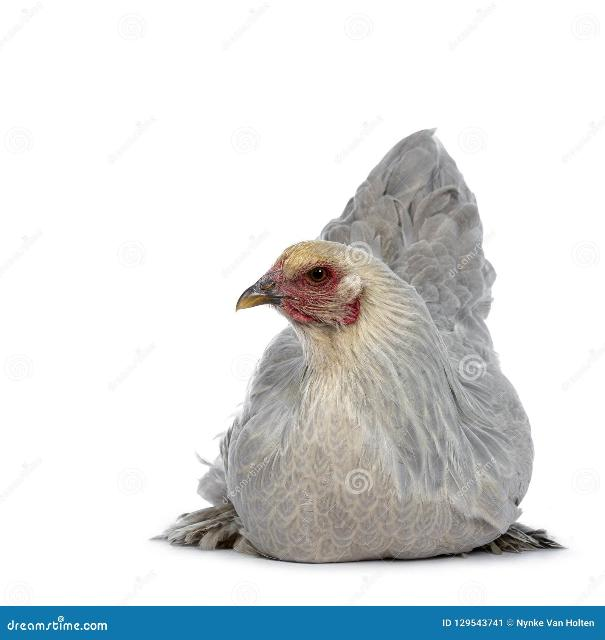Chicken: (150, 125, 564, 561)
